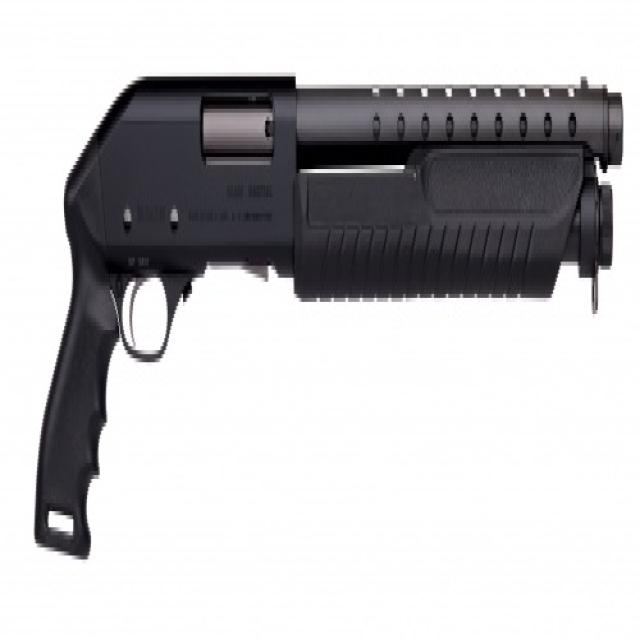rifle: (24, 41, 630, 597)
